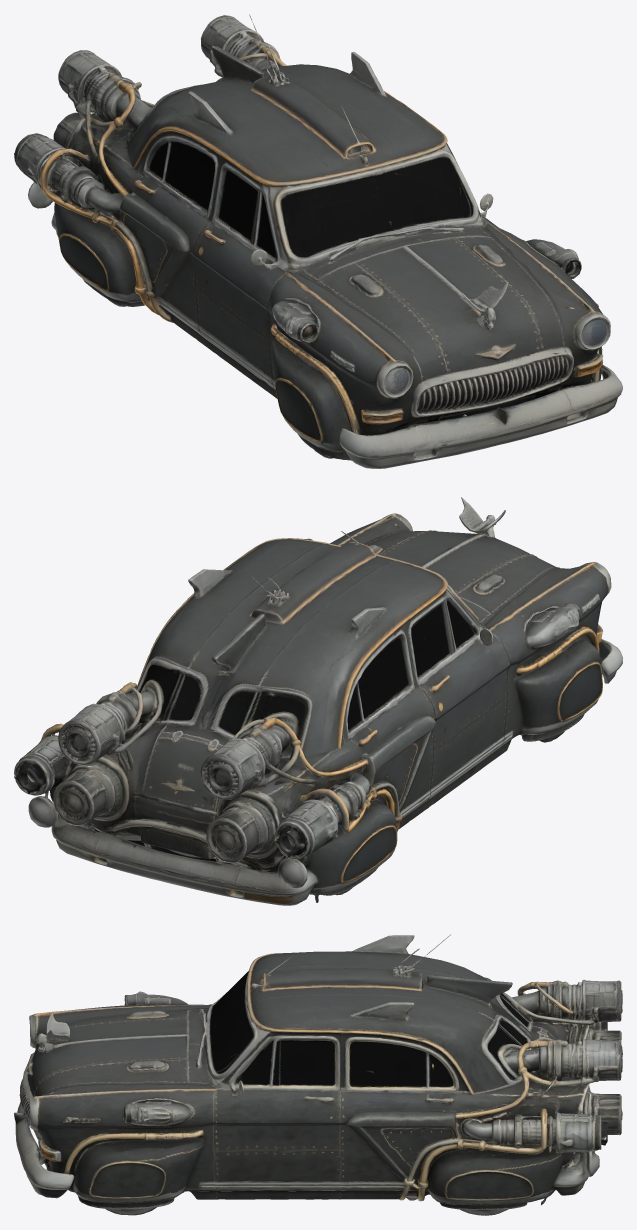
File: jetbound_roadster_browser.v2.glb
The picture shows the model from 3 angles, top to bottom: view 1: azimuth 30°, elevation 25°; view 2: azimuth 150°, elevation 25°; view 3: azimuth 270°, elevation 25°; orthographic projection. The views are drawn at different scales.
Visible parts, largest first — view 1: jetbound_roadster; view 2: jetbound_roadster; view 3: jetbound_roadster.
Boxes of the visible parts, x1,y1,x2,y2 form: jetbound_roadster: [14, 14, 622, 468]; jetbound_roadster: [14, 497, 622, 905]; jetbound_roadster: [14, 934, 622, 1215].
Bounding box in the file's own units: 5.33 × 4.54 × 10.75.
Materials: 1 (1 with a texture image).
